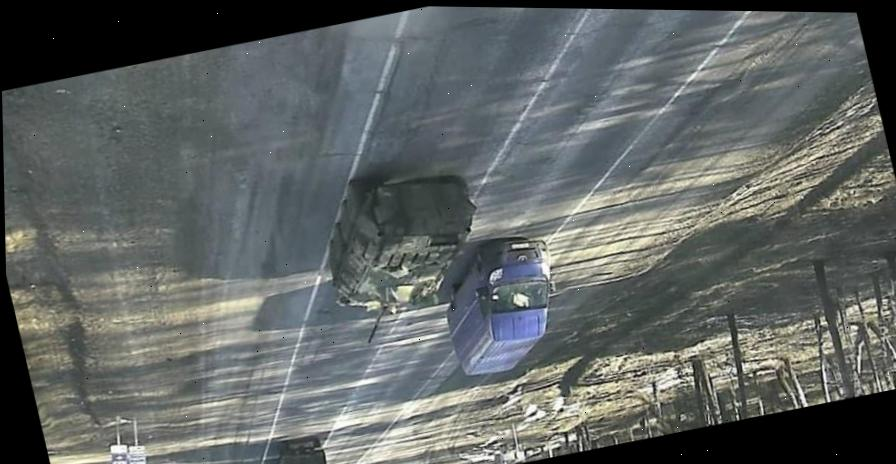car: (435, 233, 571, 380)
tank: (302, 167, 487, 325)
truck: (264, 422, 332, 464)
